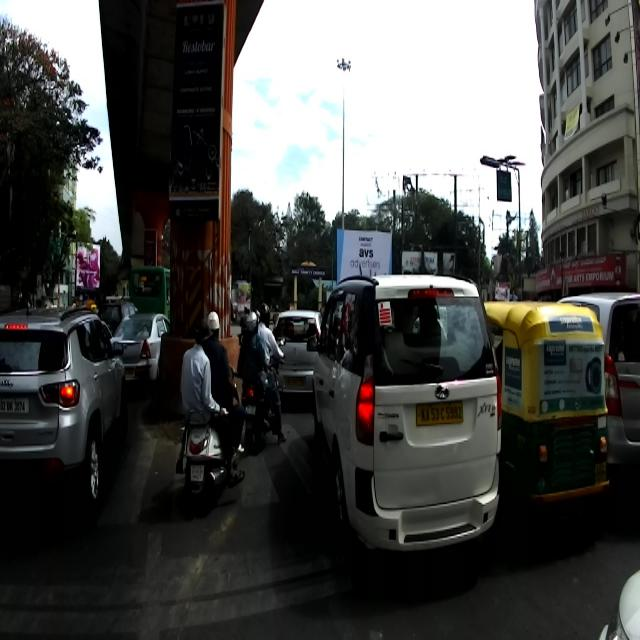autorickshaw: (481, 299, 610, 532)
car: (305, 274, 502, 572), (0, 306, 128, 516), (556, 292, 640, 498), (272, 310, 334, 406), (109, 311, 170, 397)
motorcycle: (237, 336, 287, 454)
scooter: (173, 361, 245, 511)
